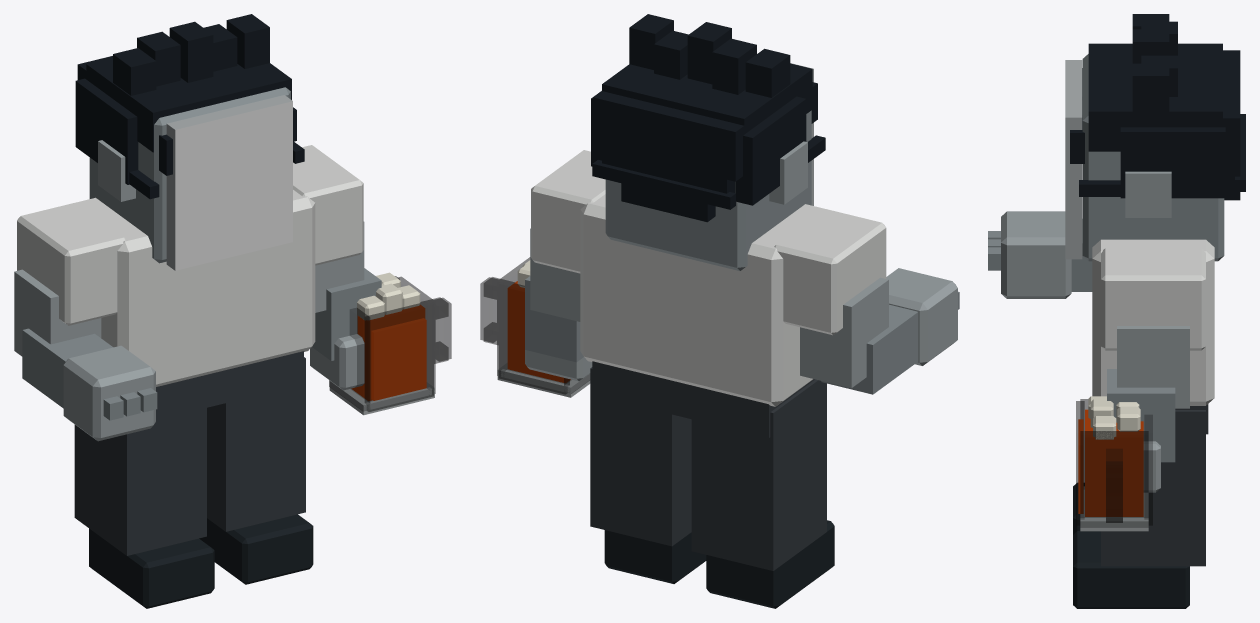
The model's file is sobaya.glb.
3 views of the same model, side by side, from view 1: azimuth 30°, elevation 25°; view 2: azimuth 150°, elevation 25°; view 3: azimuth 270°, elevation 25° (orthographic). The views are drawn at different scales.
Visible parts, largest first — view 1: SobayaVoxel_Root_MobileMesh, VoxelRig_ArmSecondary_MobileMesh, VoxelRig_ArmPrimary_MobileMesh, VoxelRig_LegLeft_MobileMesh, VoxelRig_LegRight_MobileMesh; view 2: SobayaVoxel_Root_MobileMesh, VoxelRig_LegLeft_MobileMesh, VoxelRig_ArmSecondary_MobileMesh, VoxelRig_ArmPrimary_MobileMesh, VoxelRig_LegRight_MobileMesh; view 3: SobayaVoxel_Root_MobileMesh, VoxelRig_ArmPrimary_MobileMesh, VoxelRig_LegRight_MobileMesh, VoxelRig_ArmSecondary_MobileMesh.
Part boxes in pixels (x1,y1,x2,y2): SobayaVoxel_Root_MobileMesh: (75,14,315,419); VoxelRig_ArmSecondary_MobileMesh: (14,202,157,441); VoxelRig_ArmPrimary_MobileMesh: (293,145,451,415); VoxelRig_LegLeft_MobileMesh: (74,408,214,608); VoxelRig_LegRight_MobileMesh: (199,357,313,584); SobayaVoxel_Root_MobileMesh: (580,14,825,437); VoxelRig_LegLeft_MobileMesh: (691,379,834,608); VoxelRig_ArmSecondary_MobileMesh: (774,209,959,394); VoxelRig_ArmPrimary_MobileMesh: (480,150,605,397); VoxelRig_LegRight_MobileMesh: (590,367,706,583); SobayaVoxel_Root_MobileMesh: (1065,14,1245,434); VoxelRig_ArmPrimary_MobileMesh: (1076,248,1205,531); VoxelRig_LegRight_MobileMesh: (1073,410,1205,608); VoxelRig_ArmSecondary_MobileMesh: (988,211,1092,298).
Size of the model in its own units: 1.94 by 2.41 by 1.06.
